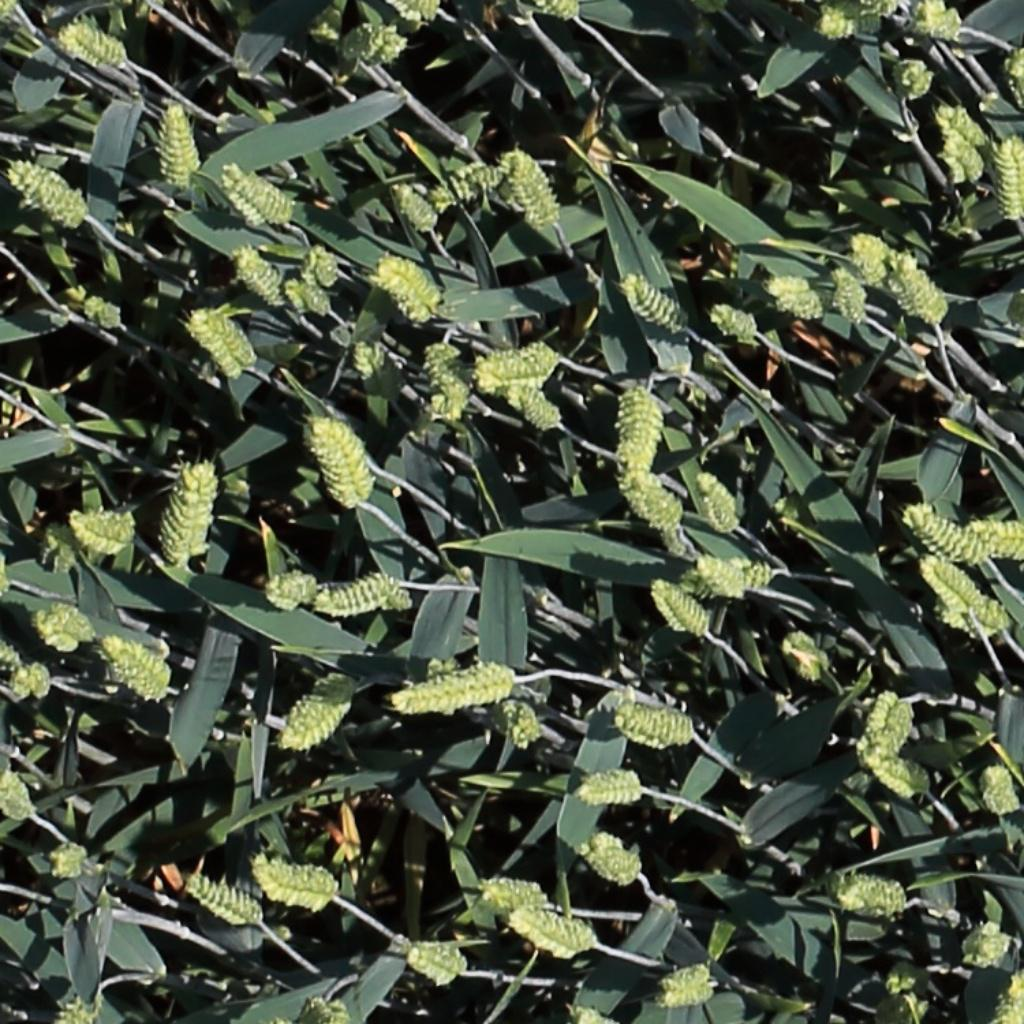0-0: (378, 661, 523, 717), (825, 221, 929, 297), (162, 457, 221, 571), (614, 374, 663, 510), (311, 566, 418, 625), (53, 19, 152, 82), (629, 464, 695, 556), (309, 413, 368, 512), (880, 237, 947, 323), (900, 501, 988, 566), (249, 854, 344, 914), (915, 555, 989, 631), (478, 331, 567, 389), (502, 144, 562, 228), (677, 555, 778, 602), (191, 307, 253, 382), (571, 826, 646, 888), (223, 158, 293, 223), (826, 873, 914, 924), (282, 674, 353, 735), (928, 591, 1010, 642), (101, 638, 167, 700), (184, 876, 263, 927), (421, 341, 472, 420), (623, 270, 689, 331), (858, 744, 925, 804), (651, 576, 712, 641), (217, 165, 275, 233), (232, 241, 289, 309), (472, 877, 563, 919), (376, 255, 441, 312), (15, 172, 87, 223), (436, 156, 498, 214), (937, 107, 988, 177), (512, 910, 595, 953), (163, 95, 199, 192), (873, 694, 920, 768), (694, 466, 745, 533), (282, 701, 350, 750), (865, 688, 910, 761), (566, 771, 645, 810), (389, 177, 441, 234), (614, 709, 694, 746), (958, 515, 1024, 559), (699, 551, 756, 601), (831, 259, 872, 327), (765, 277, 830, 318), (780, 632, 831, 684), (939, 101, 989, 154), (397, 943, 466, 981), (8, 158, 69, 200), (657, 953, 724, 991), (255, 570, 321, 608), (514, 383, 563, 432), (335, 26, 395, 66), (30, 608, 83, 653), (46, 837, 95, 885), (998, 131, 1024, 221), (956, 924, 1013, 965), (279, 271, 326, 319), (505, 696, 544, 753), (981, 763, 1019, 821), (0, 765, 35, 826), (918, 0, 962, 46), (68, 517, 132, 548), (898, 55, 939, 103), (809, 5, 860, 43), (307, 237, 341, 293), (711, 303, 761, 341), (650, 986, 719, 1009), (8, 666, 52, 699), (80, 293, 122, 327), (385, 0, 441, 25), (304, 992, 346, 1024), (377, 31, 411, 70), (1005, 41, 1024, 109), (57, 992, 92, 1024), (572, 1004, 624, 1024), (0, 621, 21, 670), (858, 0, 909, 20), (536, 0, 580, 19), (0, 0, 23, 26)
